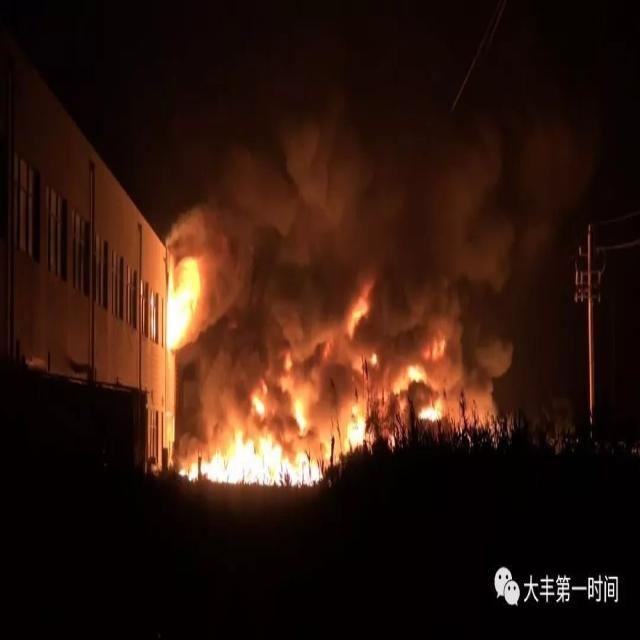Fire: (176, 394, 330, 489), (166, 255, 202, 354), (343, 402, 367, 456), (346, 298, 368, 337), (417, 398, 443, 423), (405, 363, 427, 384)
Smoke: (166, 102, 594, 467)
